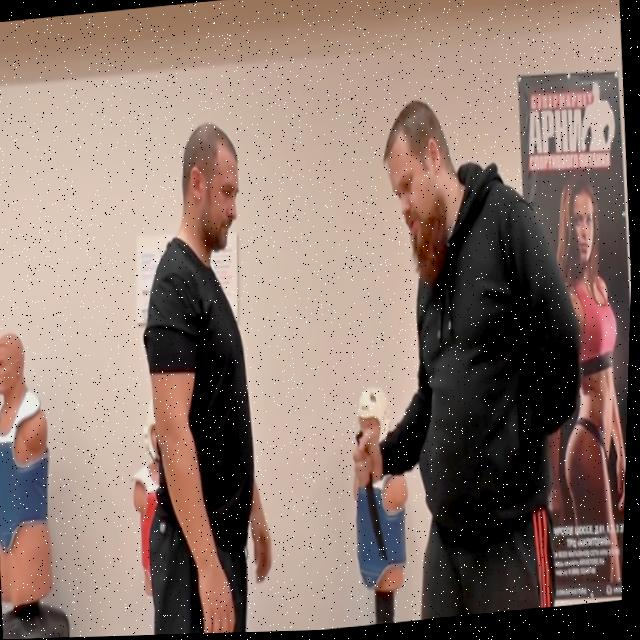knife: (366, 475, 394, 566)
